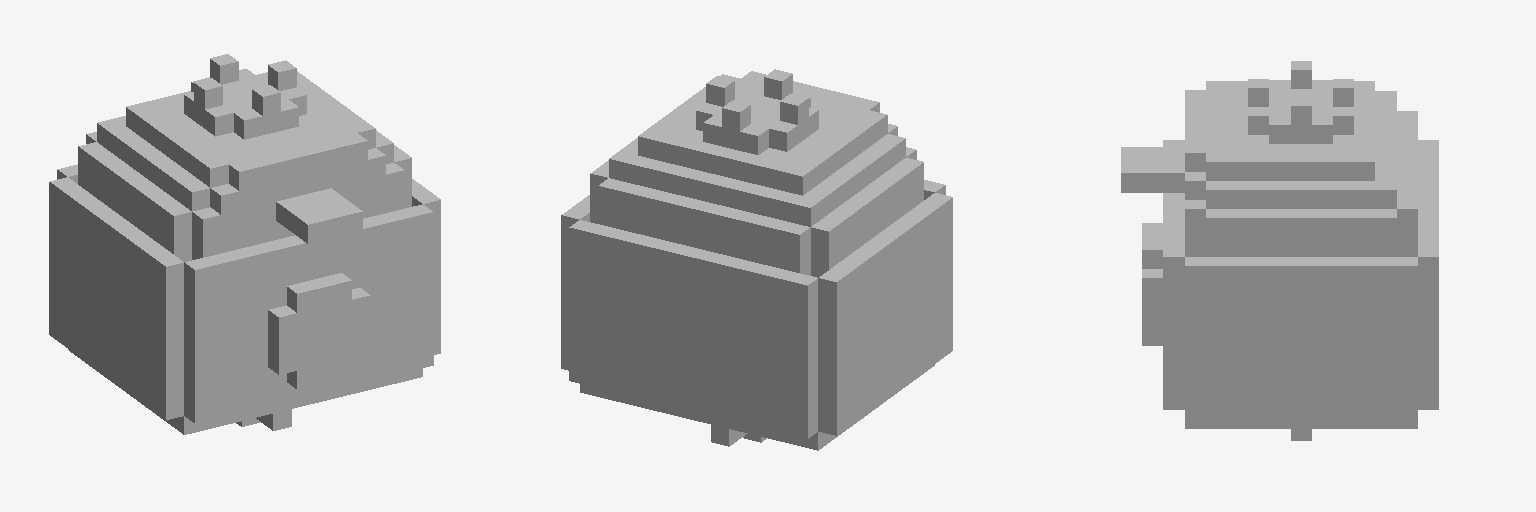
Rendered from Player.obj.
3 renders of one model, left to right at view 1: azimuth 30°, elevation 25°; view 2: azimuth 150°, elevation 25°; view 3: azimuth 270°, elevation 25°, orthographic.
Parts seen in each view (by area): view 1: Untitled; view 2: Untitled; view 3: Untitled.
Boxes of the visible parts, x1=… form: Untitled: x1=49, y1=54, x2=440, y2=434; Untitled: x1=561, y1=69, x2=952, y2=450; Untitled: x1=1121, y1=61, x2=1438, y2=440.
Size of the model in its own units: 1.5 by 1.8 by 1.5.